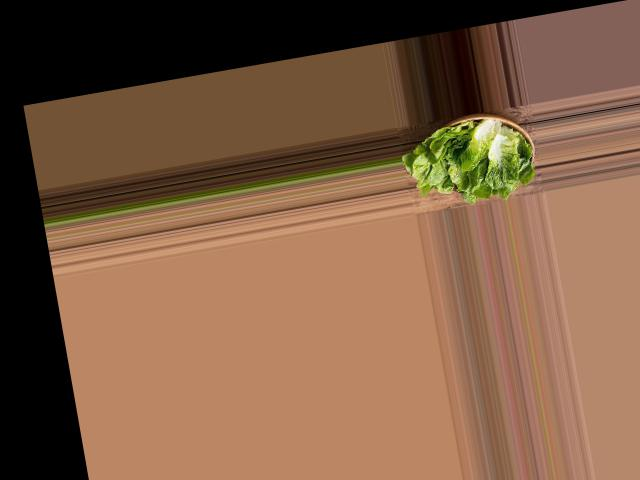lettuce: (399, 104, 546, 210)
